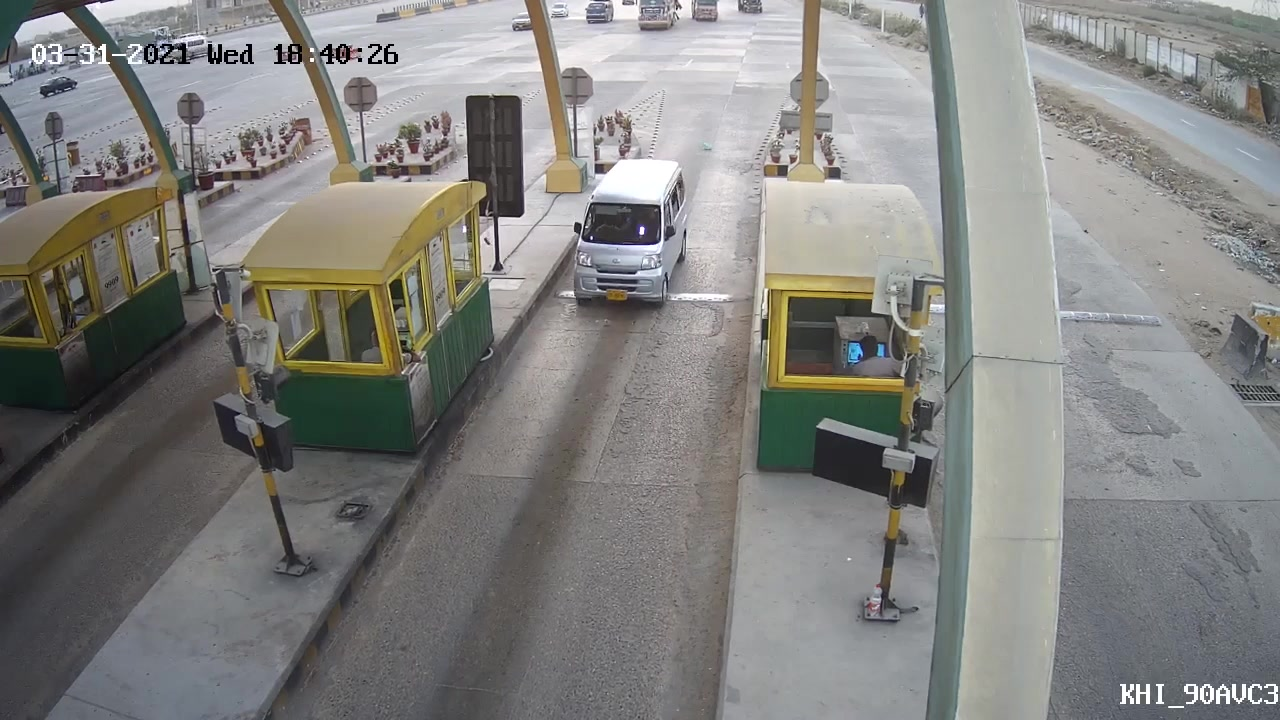F1: (554, 149, 702, 319)
